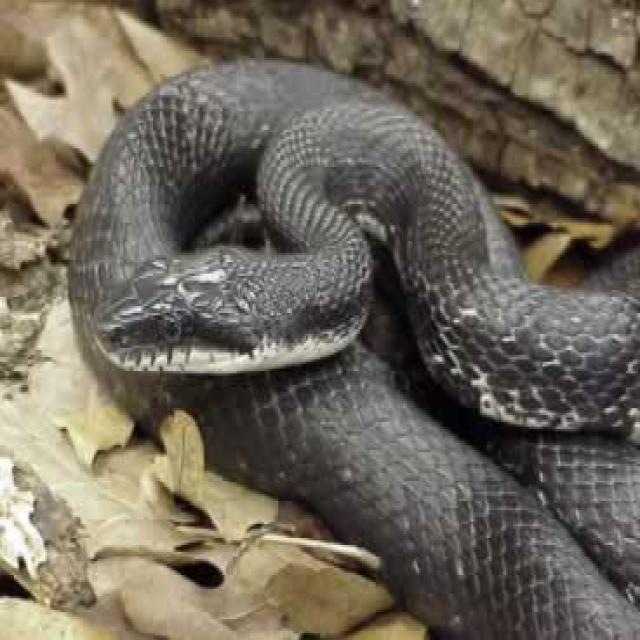Snake: (62, 53, 638, 640)
